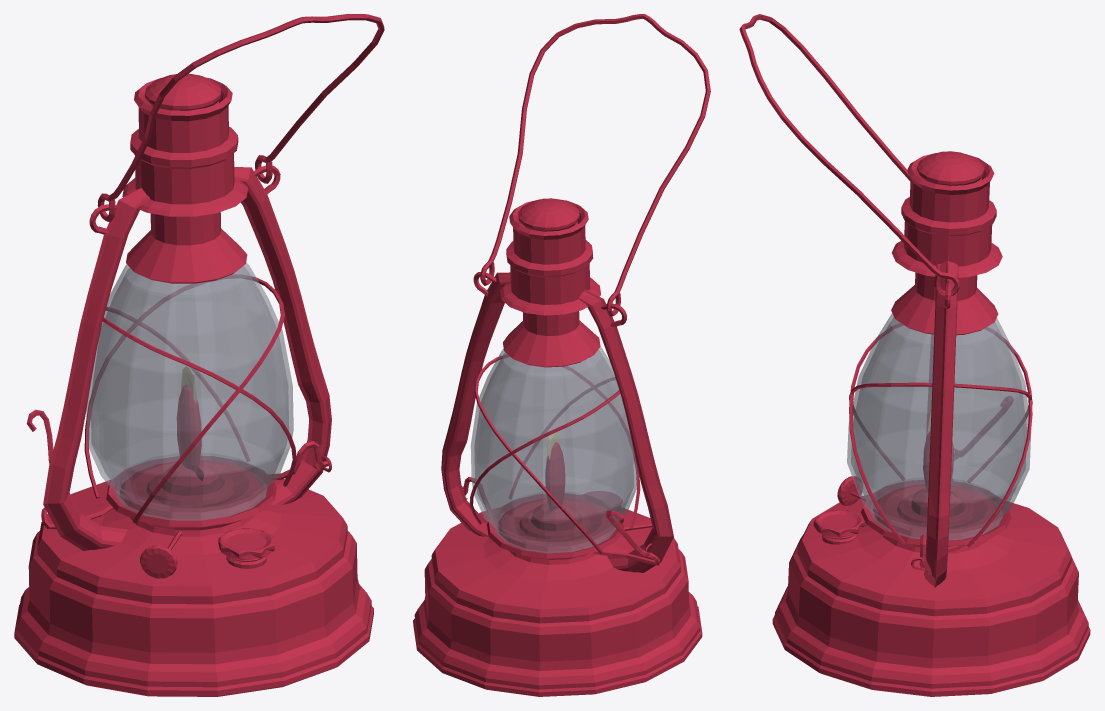
File: lant.FBX
3 renders of one model, left to right at view 1: azimuth 30°, elevation 25°; view 2: azimuth 150°, elevation 25°; view 3: azimuth 270°, elevation 25°, orthographic. The views are drawn at different scales.
Visible parts, largest first — view 1: lant_metl; view 2: lant_metl; view 3: lant_metl.
Part boxes in pixels (x1,y1,x2,y2): lant_metl: (14, 14, 384, 696); lant_metl: (413, 14, 710, 696); lant_metl: (739, 14, 1090, 696).
Bounding box in the file's own units: 0.4064 × 0.8607 × 0.4486.
